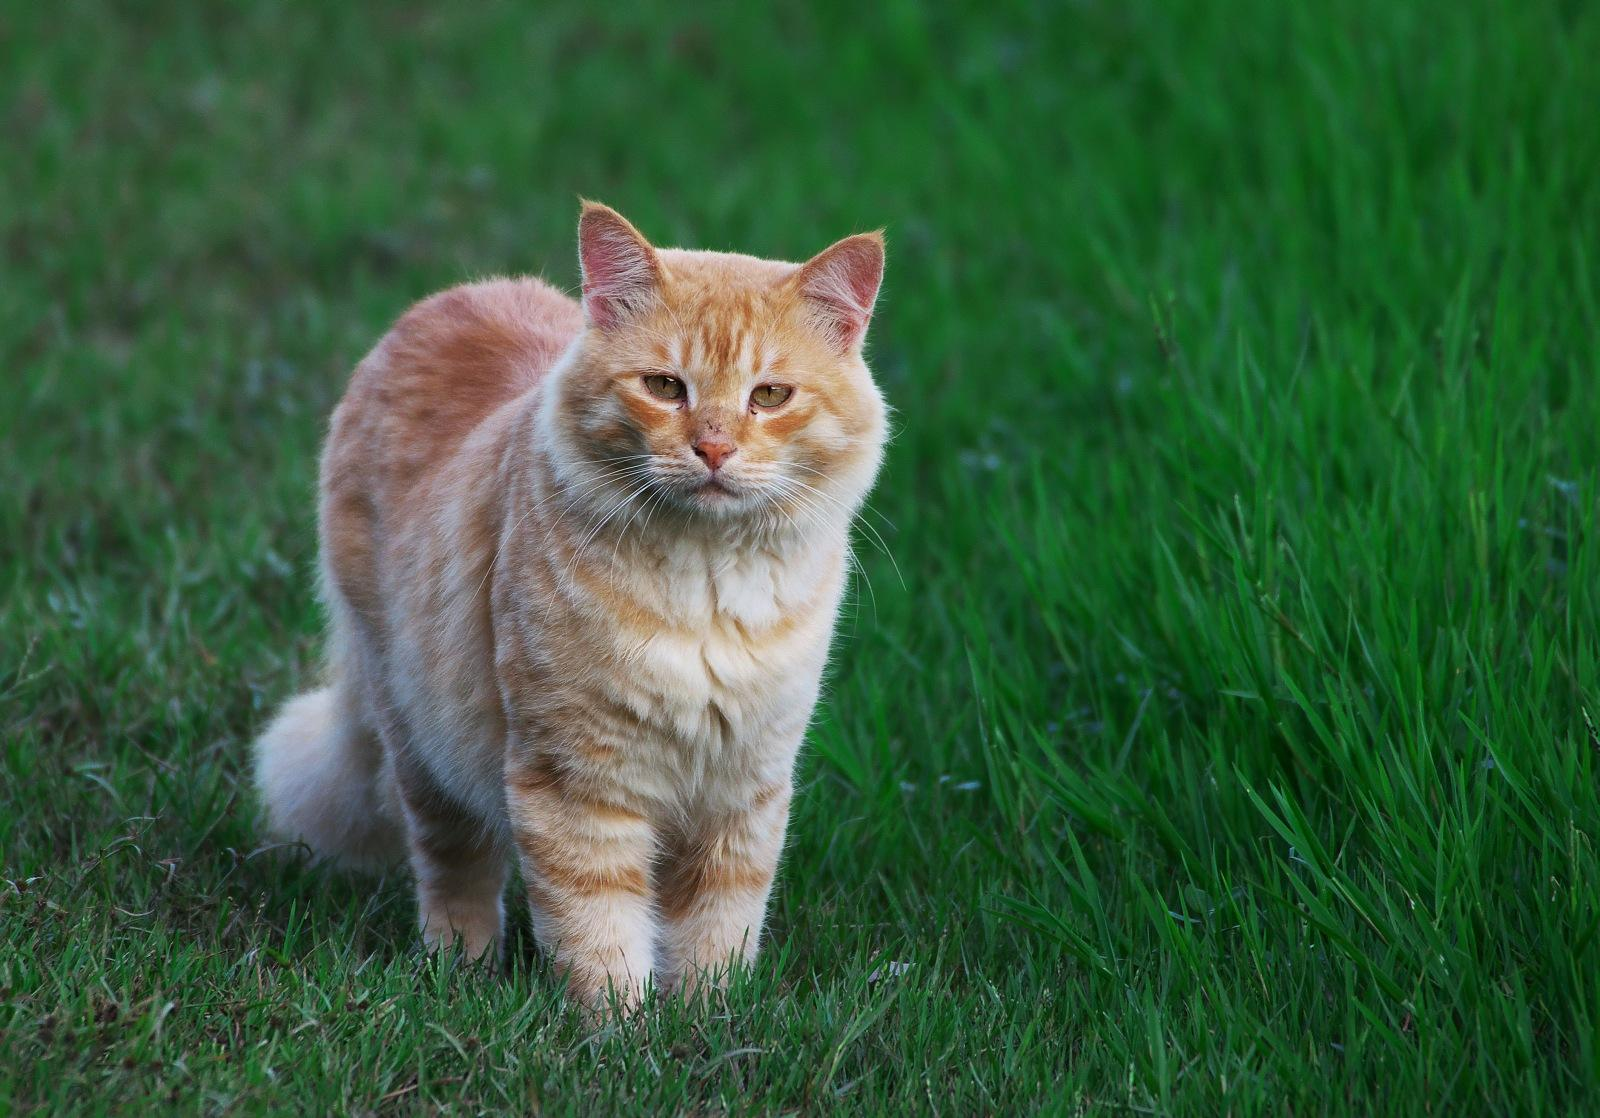cat: (247, 194, 897, 1017)
